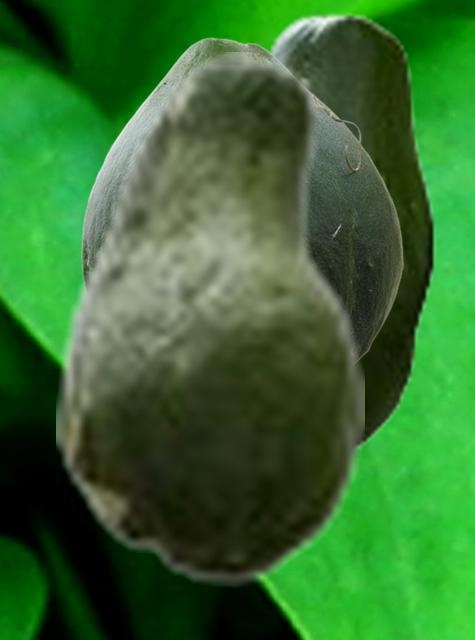sayote: (56, 52, 363, 587), (81, 37, 402, 359), (263, 12, 435, 453)
